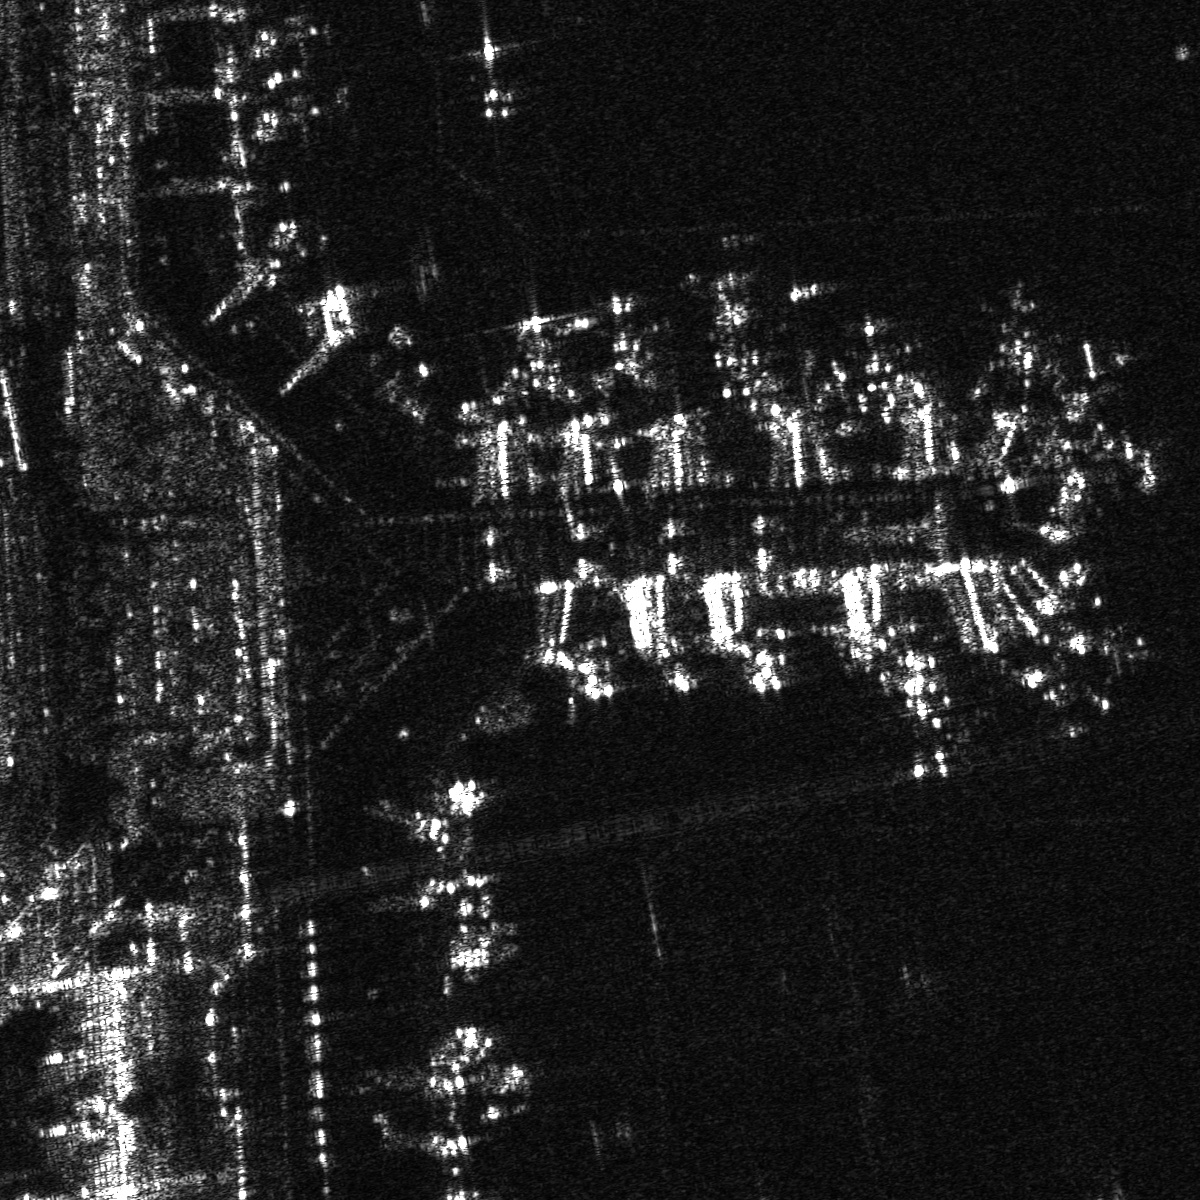A220: (485, 305, 584, 402), (263, 76, 357, 151)
A320/321: (863, 665, 980, 780), (690, 266, 792, 375), (966, 284, 1078, 380), (826, 315, 916, 397), (1058, 616, 1162, 677)
Boeing737: (433, 33, 563, 123), (1009, 662, 1119, 725)
other: (585, 289, 681, 388)
